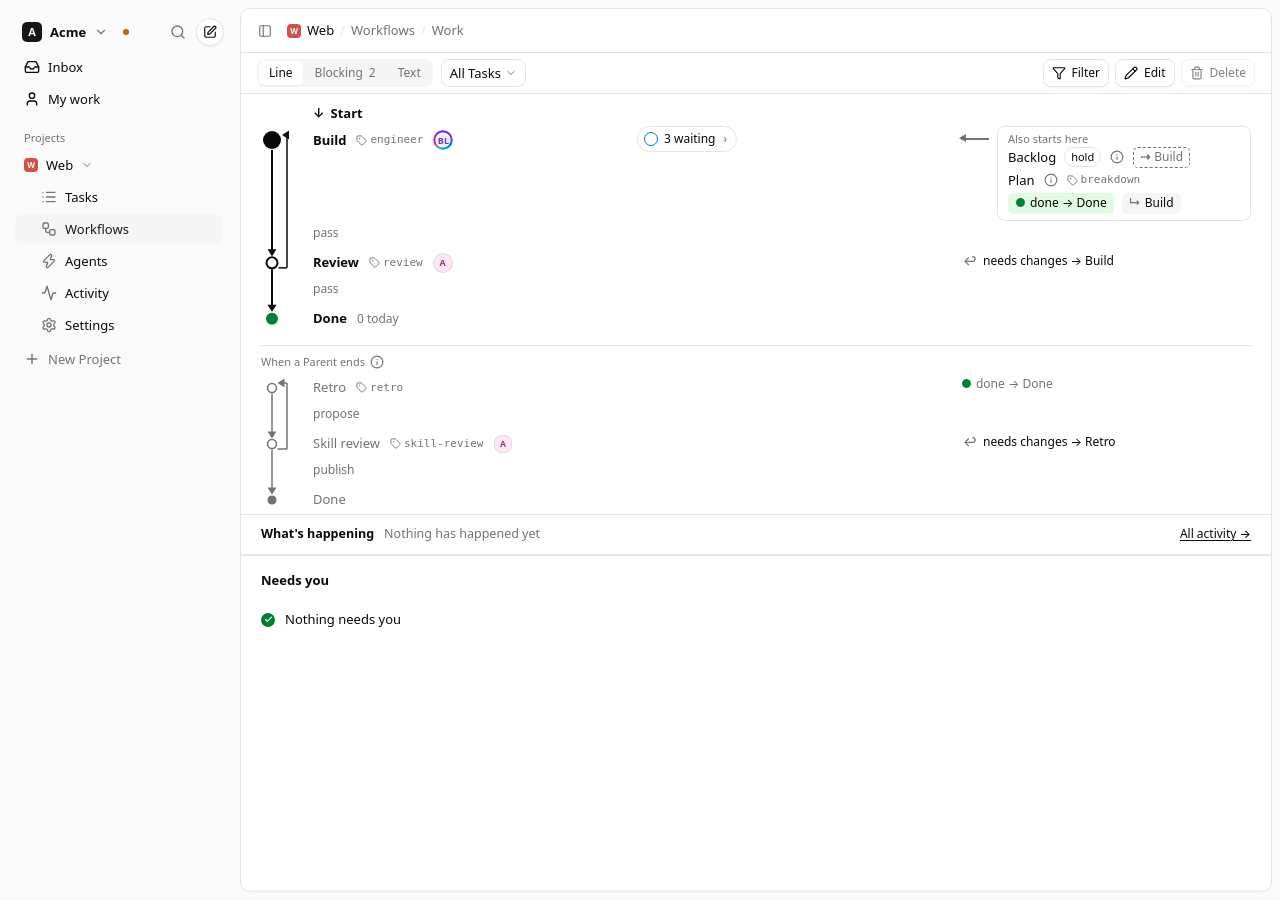
Scenario: the Workflow page › a blocker selected says what it holds up
The image size is (1280, 900).
Click the button with aria-label "Build: ".
click(687, 139)  # box x1=637 y1=126 x2=737 y2=152
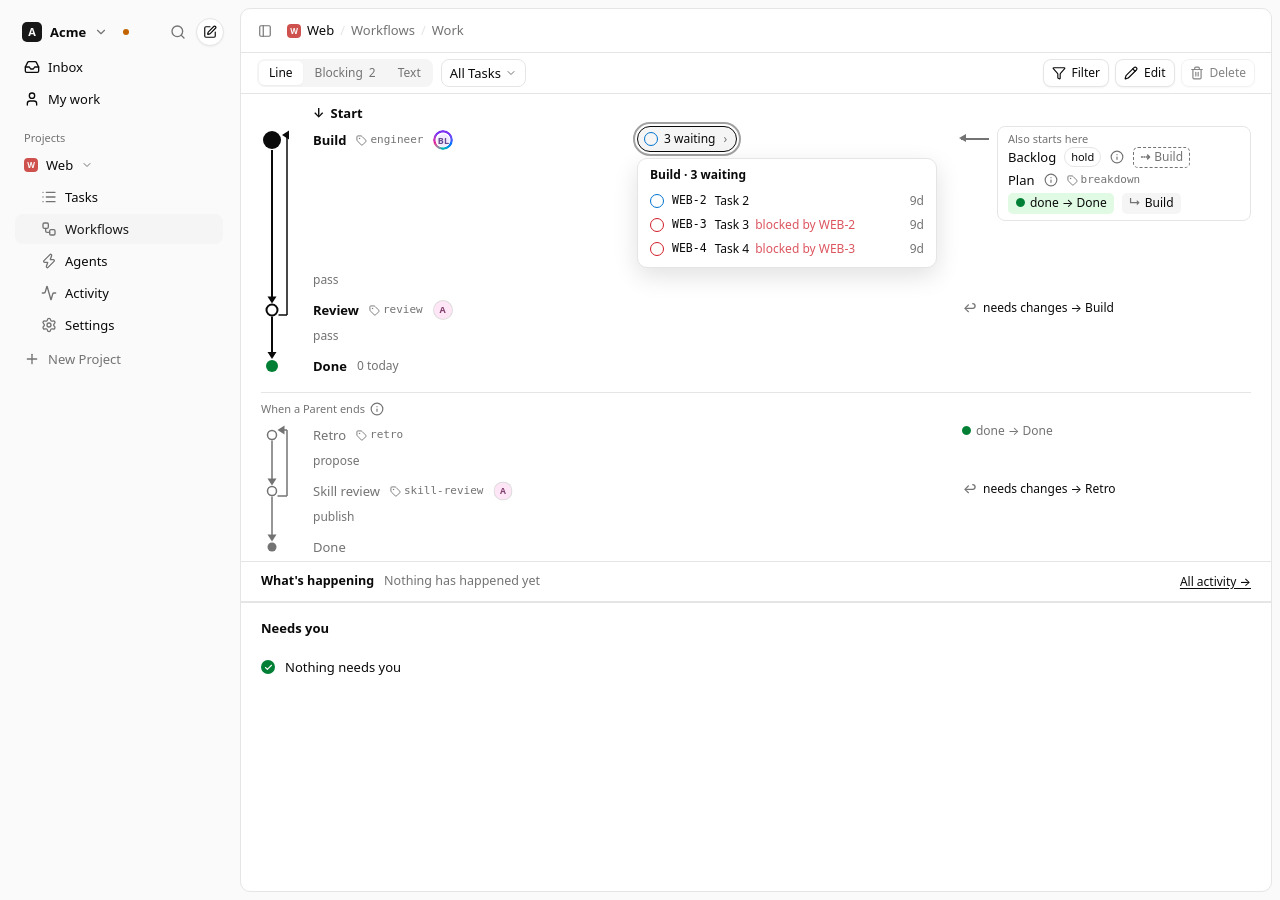
Click the button "WEB-2 Task 2 9d".
click(689, 200)  # box x1=642 y1=189 x2=932 y2=213
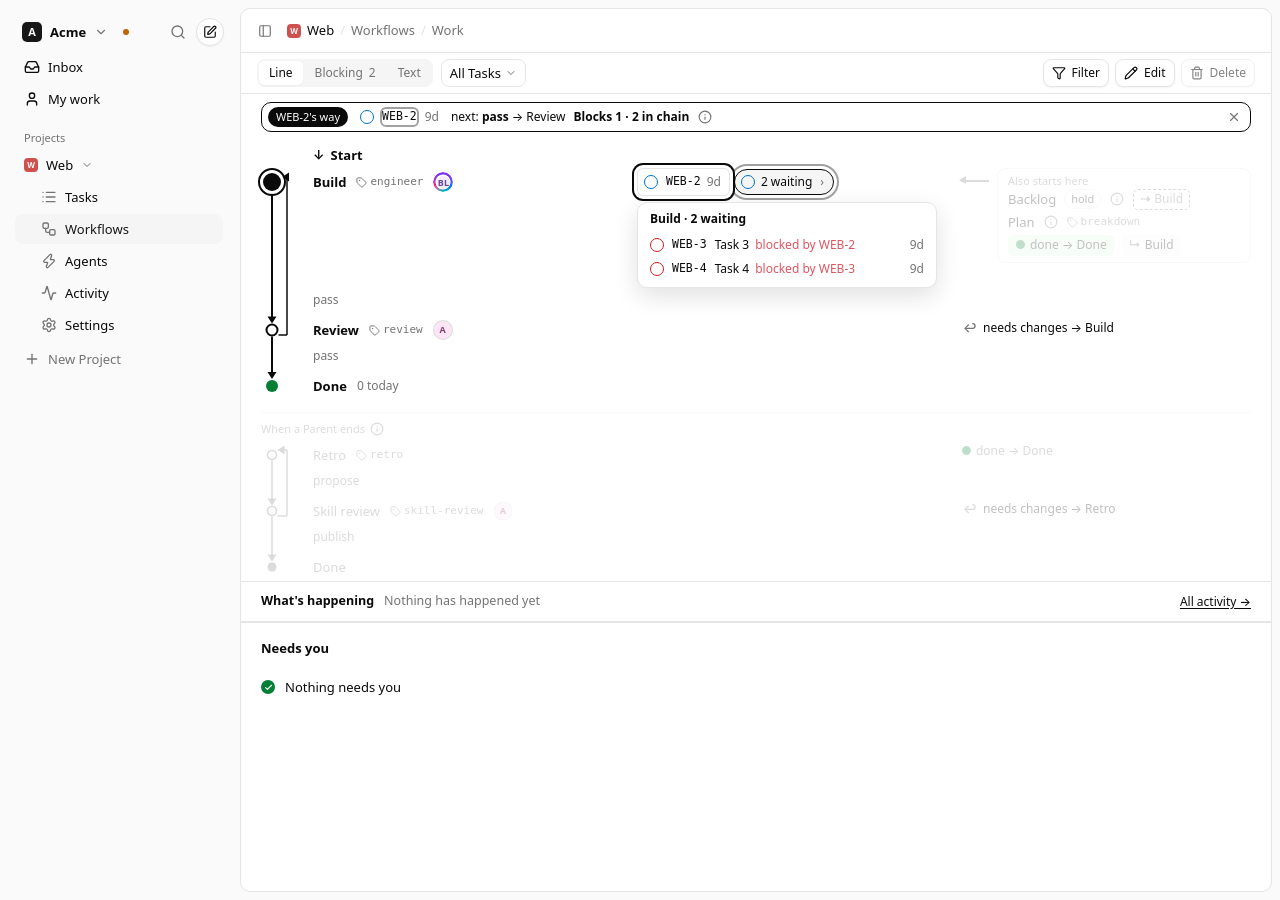
Expected: the element "WEB-2's way" does not show "unblocks when", x1=261 y1=102 x2=1251 y2=132
Expected: the element "WEB-2's way" shows "Blocks 1 · 2 in chain", x1=574 y1=108 x2=689 y2=125
Expected: the button named "About Blocks 1 · 2 in chain: WEB-3 unblocks when WEB-2 ends; WEB-4 unblocks when WEB-3 ends" is shown, x1=697 y1=109 x2=713 y2=125
